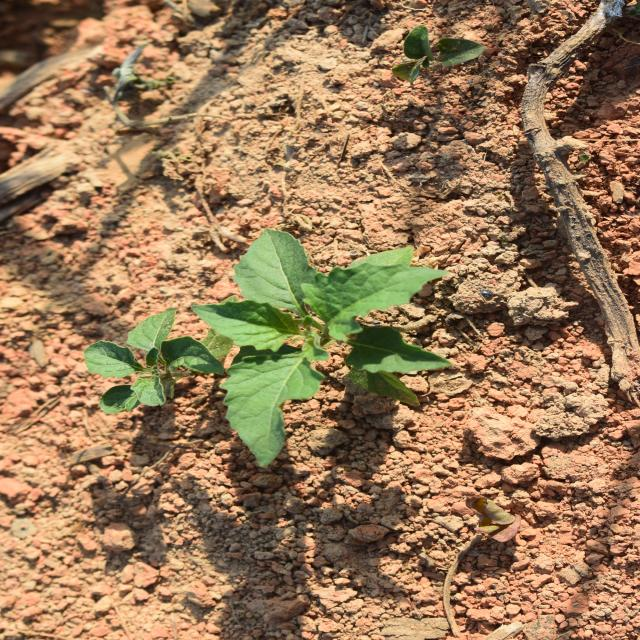Black_nightshade: (155, 172, 409, 448), (229, 83, 318, 240)
